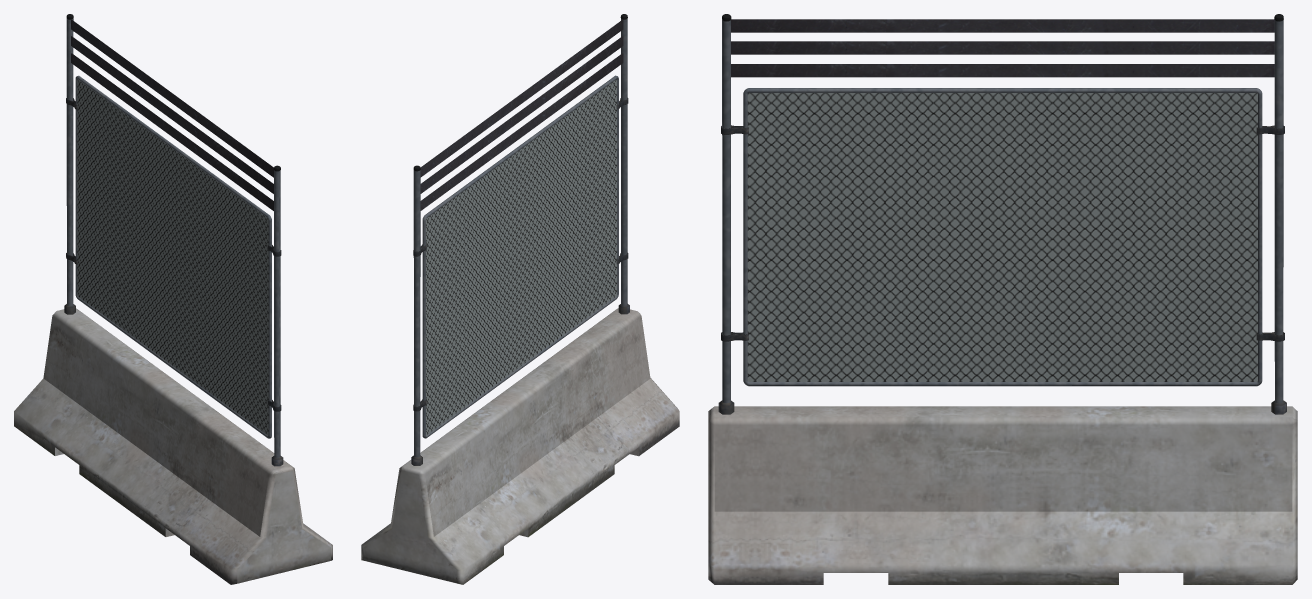
File: Fence_C_A.fbx
The picture shows the model from 3 angles, left to right: view 1: azimuth 30°, elevation 25°; view 2: azimuth 150°, elevation 25°; view 3: azimuth 270°, elevation 25°; orthographic projection. The views are drawn at different scales.
Parts seen in each view (by area): view 1: Fence_C_A_LOD0, Fence_C_A_Wire_LOD0; view 2: Fence_C_A_Wire_LOD0, Fence_C_A_LOD0; view 3: Fence_C_A_Wire_LOD0, Fence_C_A_LOD0.
Boxes of the visible parts, box(x1,y1,x2,y2) form: Fence_C_A_LOD0: box(14, 14, 332, 584); Fence_C_A_Wire_LOD0: box(71, 19, 273, 435); Fence_C_A_Wire_LOD0: box(420, 20, 623, 435); Fence_C_A_LOD0: box(361, 14, 679, 584); Fence_C_A_Wire_LOD0: box(731, 19, 1274, 381); Fence_C_A_LOD0: box(708, 14, 1297, 584).
Size of what is drawn, in the model's own units: 80 by 302 by 300.
